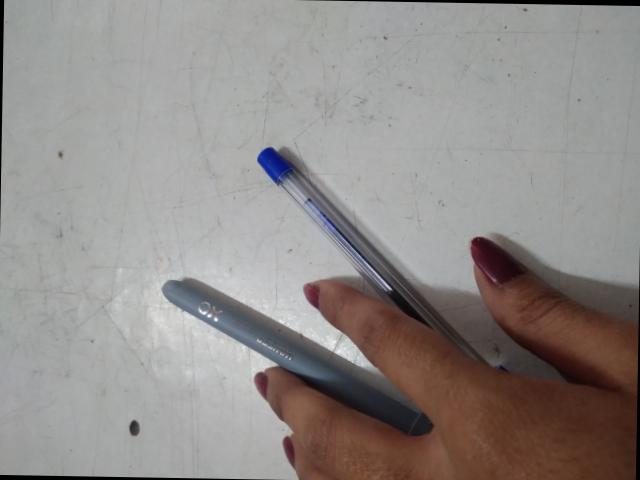PEN: (110, 244, 340, 480), (46, 155, 195, 430)
